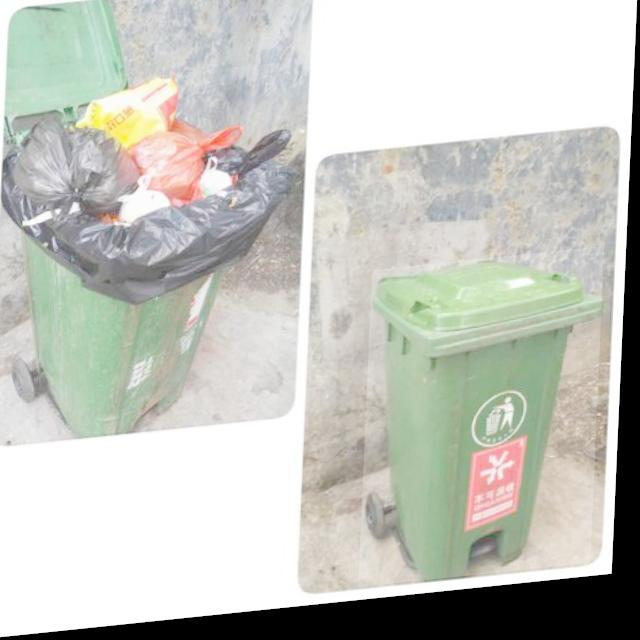garbage_bin: (364, 259, 607, 596)
overflow: (0, 68, 293, 446)
